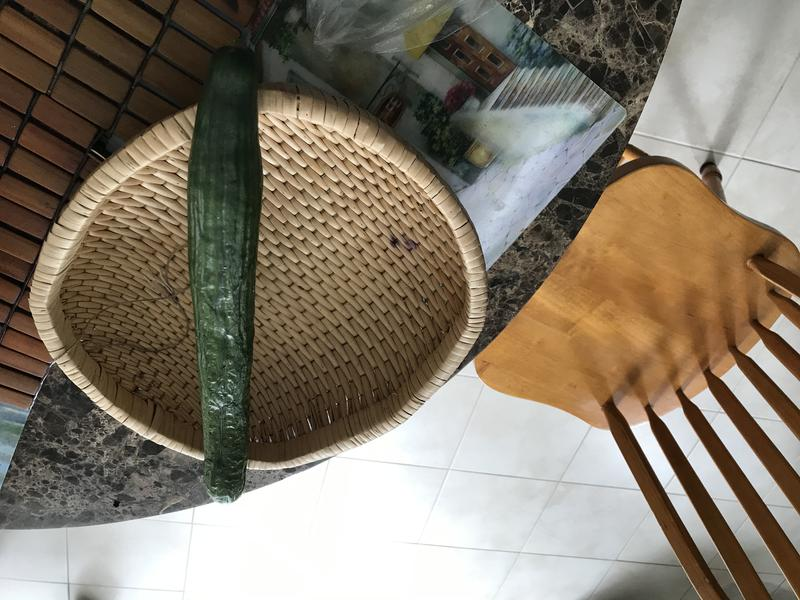cucumber: (186, 41, 272, 513)
